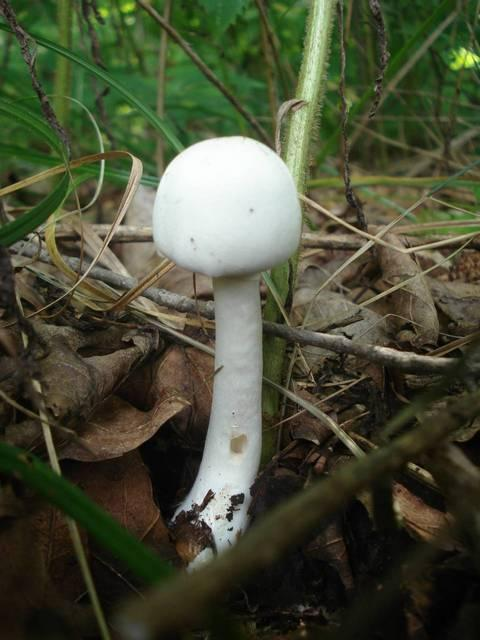poisonous_mushroom: (150, 134, 303, 576)
